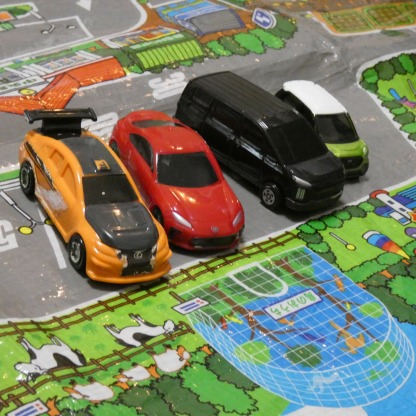car: (178, 62, 340, 225), (22, 115, 168, 288), (112, 111, 245, 255), (278, 75, 370, 177)
